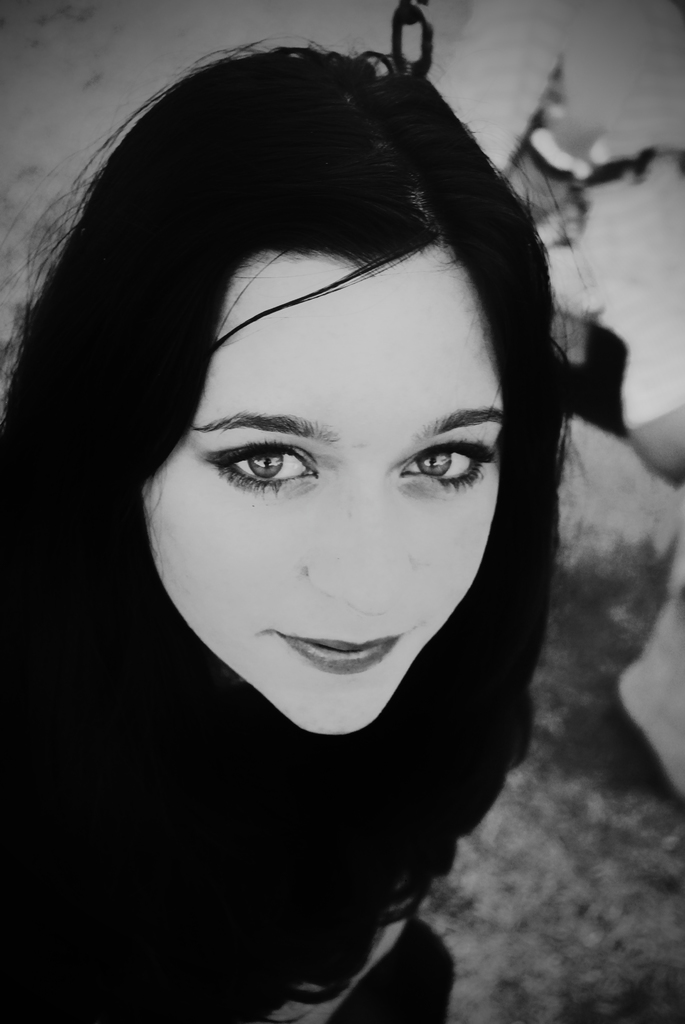face: (192, 136, 502, 724)
